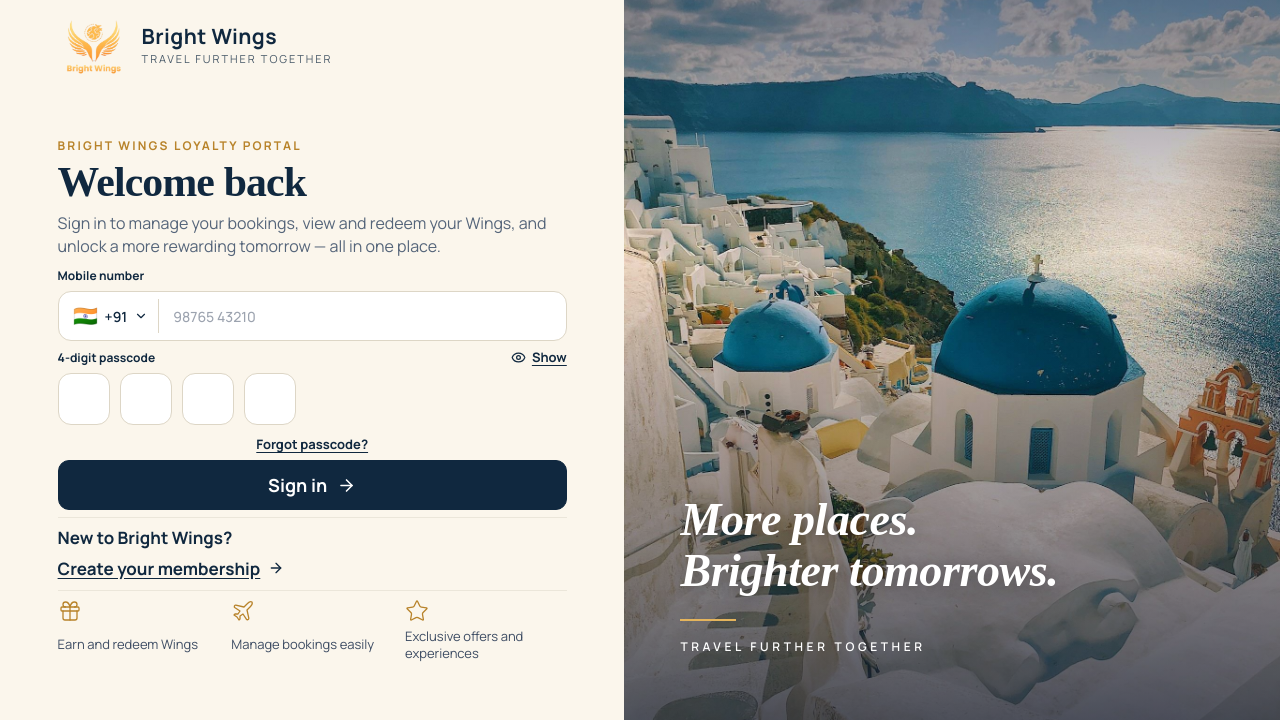
Test: redirects the portal root to sign-in and lets visitors open sign-up without a navbar
Expected: the button "Sign in" is shown, [58,460,567,510]
Click the button "Create your membership" at (171, 568), box [58,557,284,580]
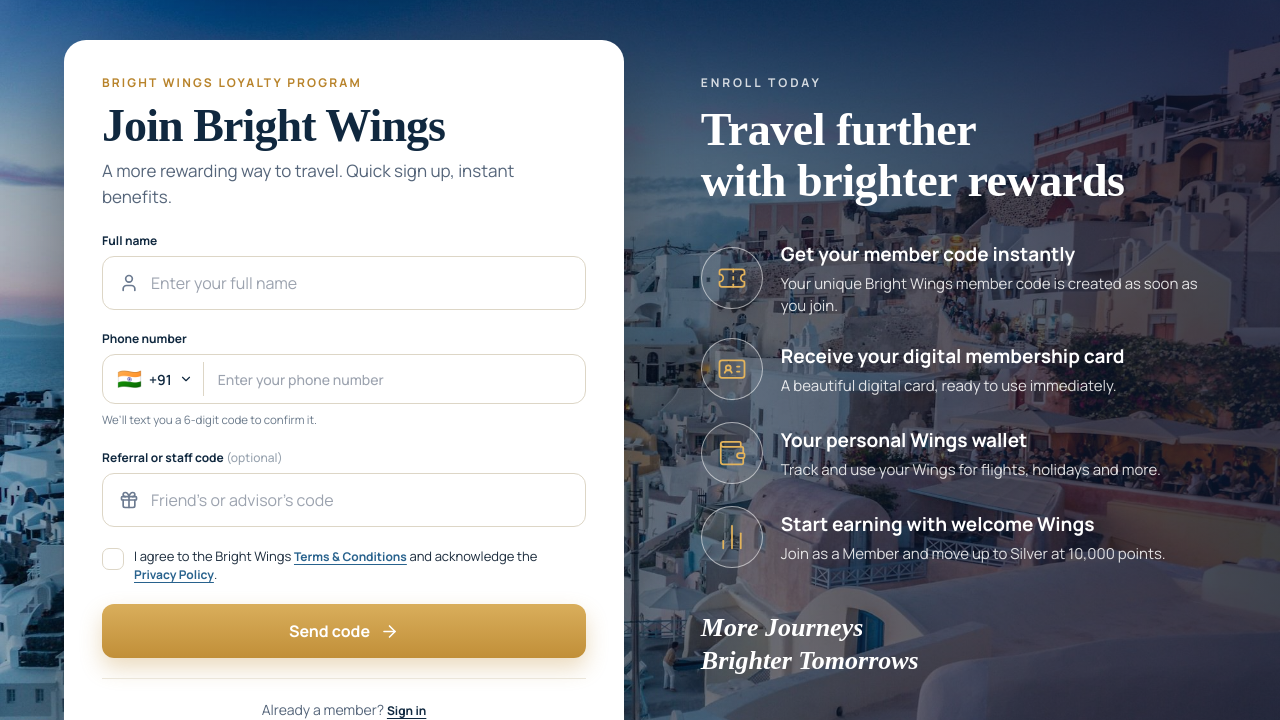
Expected: the button "Send code" is shown, [102,604,586,658]
